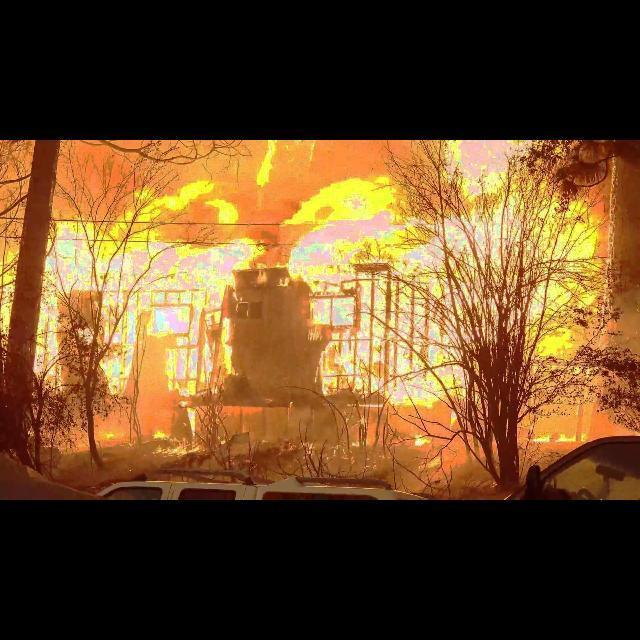Fire: (87, 241, 245, 293)
